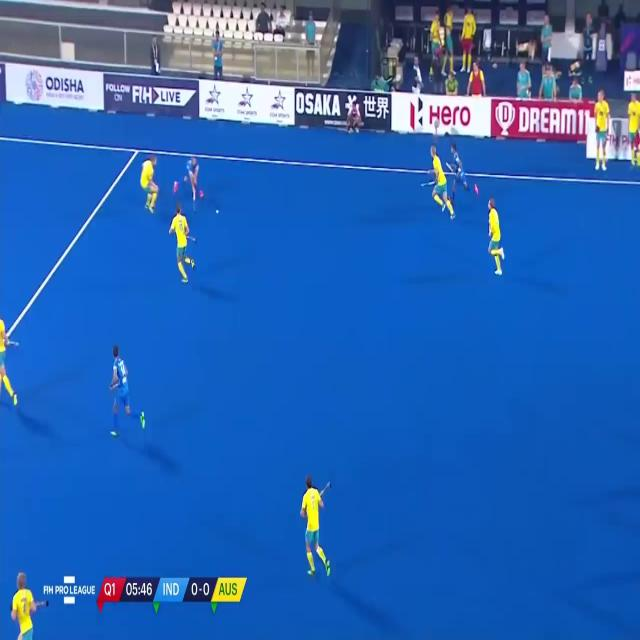ball: (215, 206, 220, 215)
